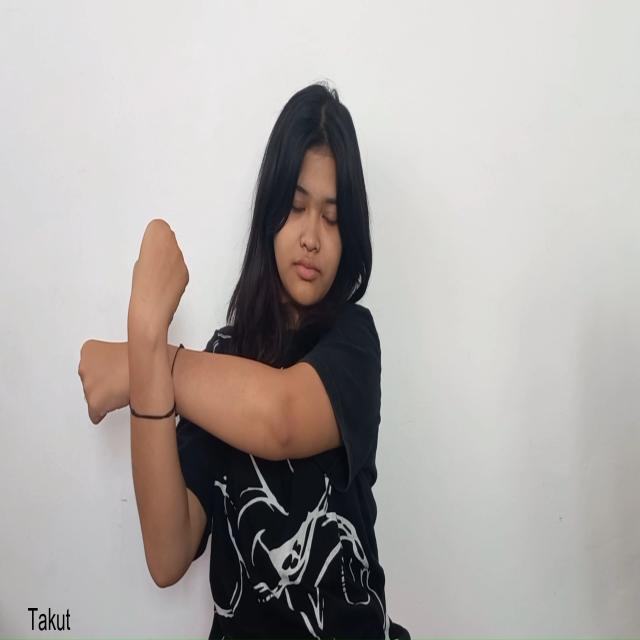Takut -BISINDO-: (76, 215, 191, 449)
